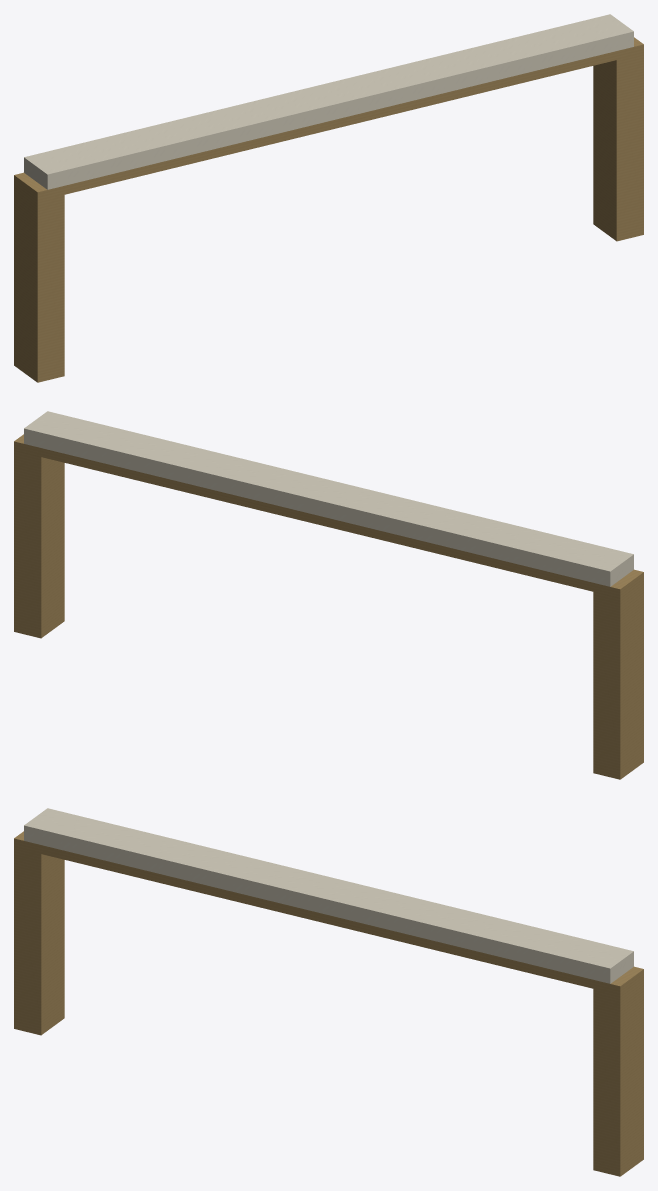
Rendered from G7_Completion_R004_G7C4_Fore_NeckLanding.glb.
3 renders of one model, top to bottom at view 1: azimuth 30°, elevation 25°; view 2: azimuth 150°, elevation 25°; view 3: azimuth 330°, elevation 25°, orthographic.
Parts seen in each view (by area): view 1: G7C4_Fore_NeckLanding_solid_frame, G7C4_Fore_NeckLanding_solid_roof; view 2: G7C4_Fore_NeckLanding_solid_frame, G7C4_Fore_NeckLanding_solid_roof; view 3: G7C4_Fore_NeckLanding_solid_frame, G7C4_Fore_NeckLanding_solid_roof.
Boxes of the visible parts, bbox=[...] form: G7C4_Fore_NeckLanding_solid_frame: bbox=[14, 37, 643, 382]; G7C4_Fore_NeckLanding_solid_roof: bbox=[24, 14, 633, 189]; G7C4_Fore_NeckLanding_solid_frame: bbox=[14, 434, 643, 779]; G7C4_Fore_NeckLanding_solid_roof: bbox=[24, 411, 633, 586]; G7C4_Fore_NeckLanding_solid_frame: bbox=[14, 831, 643, 1176]; G7C4_Fore_NeckLanding_solid_roof: bbox=[24, 808, 633, 983].
Size of the model in its own units: 14.06 by 4.56 by 0.95.
Materials: 2 (2 with a texture image).
